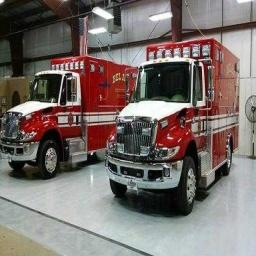ambulance: (106, 38, 238, 214), (0, 56, 134, 178)
